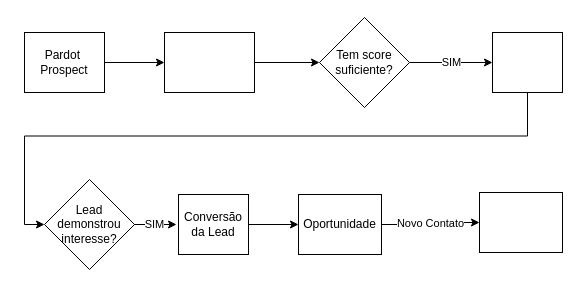
Image size: 580x287. Some labels were removed from this diagram. The centre of each missing label's shape, as x and y in pixels:
"Aquecimento da Lead" belongs at point (209, 62).
"Contato de Sales" belongs at point (527, 62).
"Nova Conta" belongs at point (520, 222).
